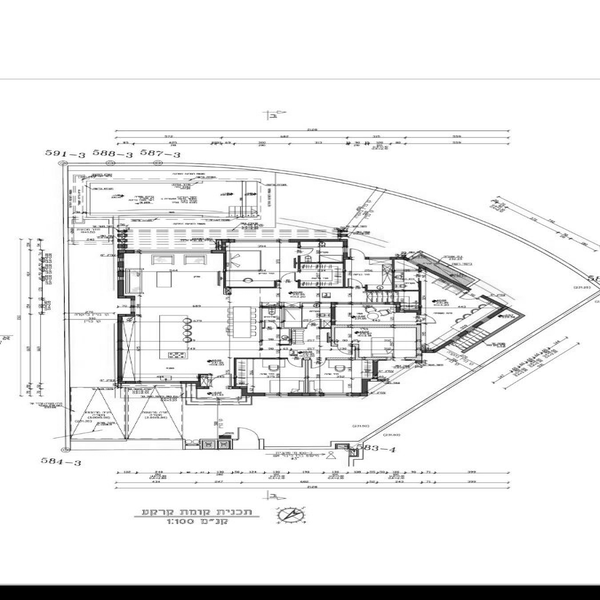room: (232, 350, 373, 400), (220, 234, 347, 288), (331, 299, 425, 329)
